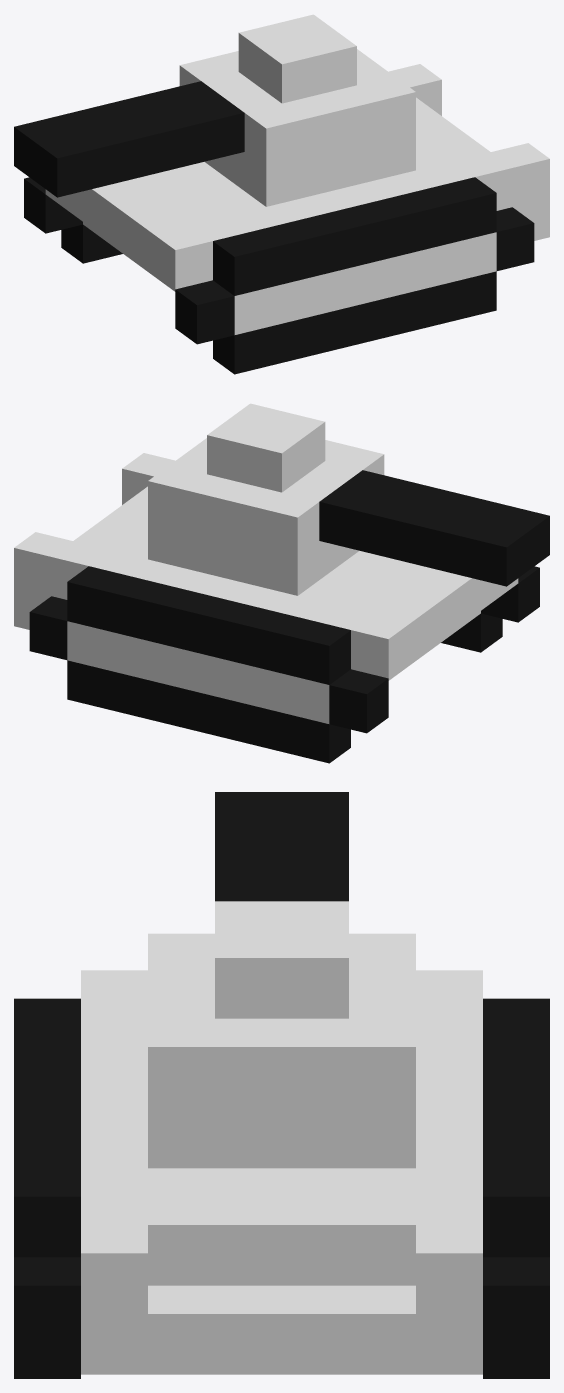
Rendered from Tank.obj.
3 views of the same model, one above another, from view 1: azimuth 30°, elevation 25°; view 2: azimuth 150°, elevation 25°; view 3: azimuth 270°, elevation 25° (orthographic). The views are drawn at different scales.
Bounding box in the file's own units: 1.2 × 0.6 × 0.8.
1 material, 1 textured.
